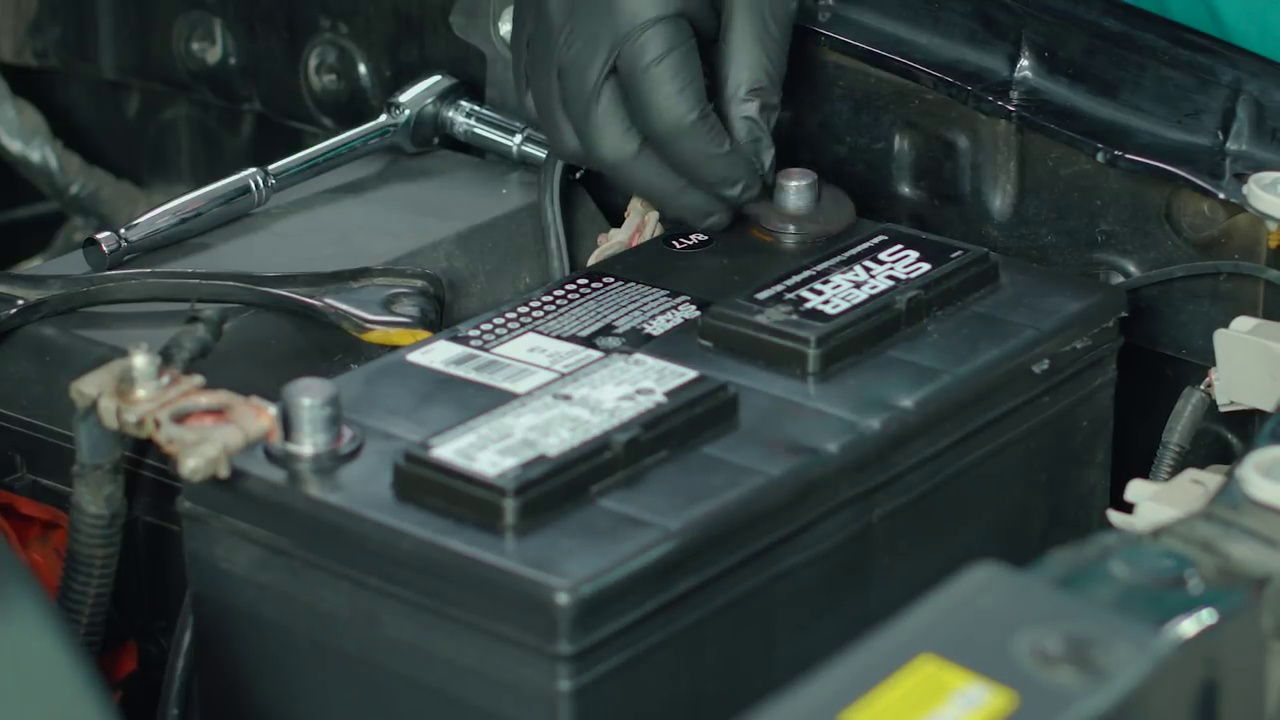battery: (170, 158, 1120, 603)
neg_touched: (618, 62, 861, 245)
pos_disconnected: (6, 301, 380, 563)
